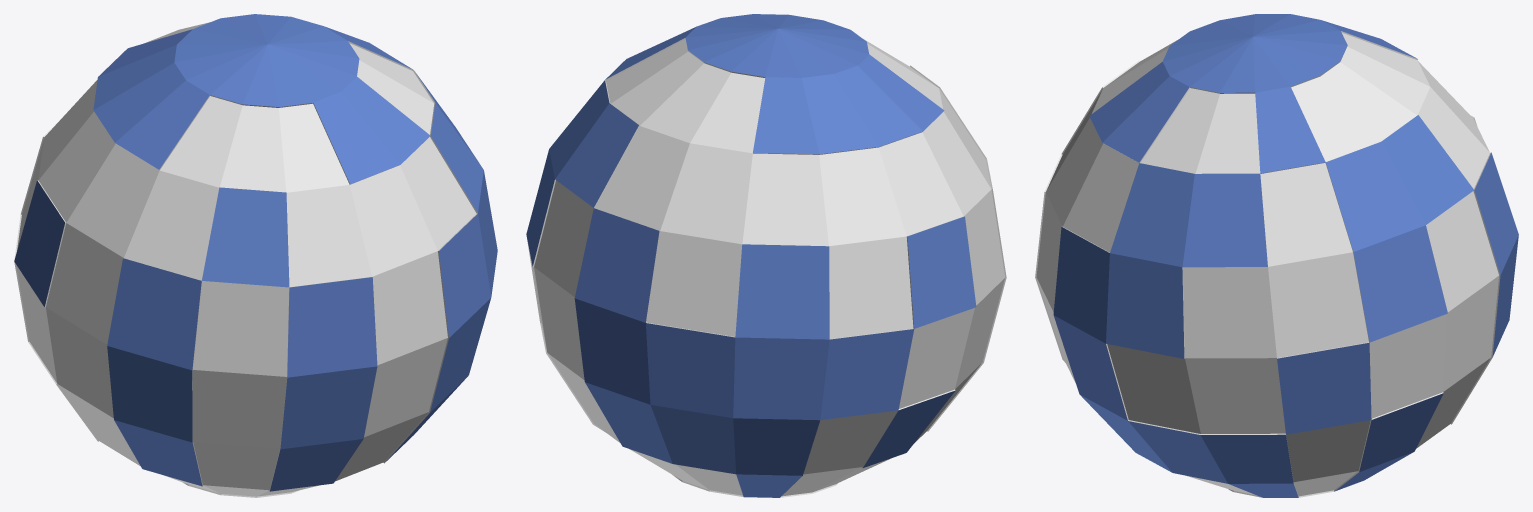
File: studio_planet_01.glb
The picture shows the model from 3 angles, left to right: view 1: azimuth 30°, elevation 25°; view 2: azimuth 150°, elevation 25°; view 3: azimuth 270°, elevation 25°; orthographic projection.
Parts seen in each view (by area): view 1: Sphere.006; view 2: Sphere.006; view 3: Sphere.006.
Boxes of the visible parts, bbox=[...] form: Sphere.006: bbox=[14, 14, 497, 497]; Sphere.006: bbox=[526, 14, 1006, 497]; Sphere.006: bbox=[1035, 14, 1518, 497].
Bounding box in the file's own units: 9.12 × 9.07 × 9.07.
